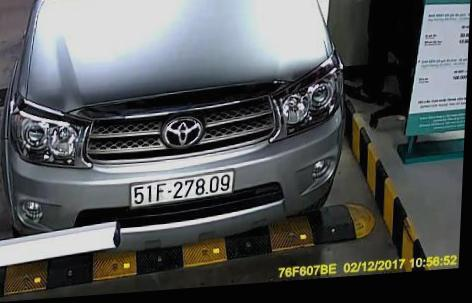License_Plate: (125, 173, 237, 207)
